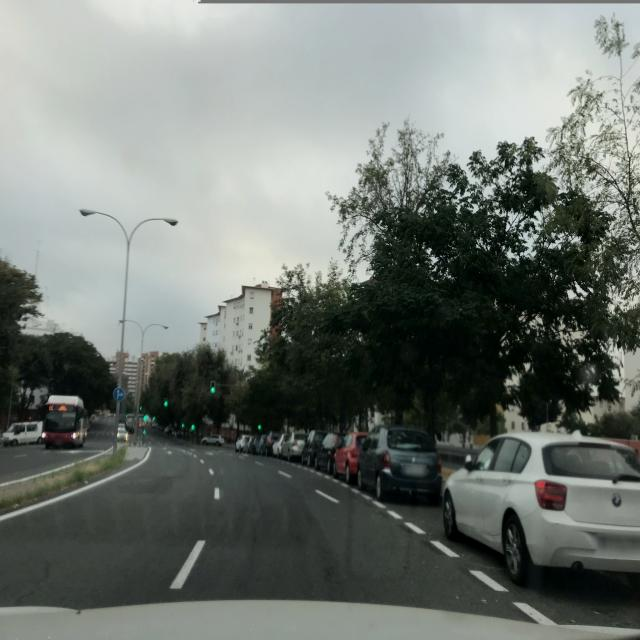car: (441, 429, 640, 588), (356, 424, 444, 503), (332, 431, 370, 483), (314, 432, 345, 474), (300, 429, 328, 467), (2, 421, 42, 447), (282, 431, 307, 462), (261, 432, 280, 456), (272, 433, 289, 458), (201, 434, 224, 446), (115, 425, 128, 442)
